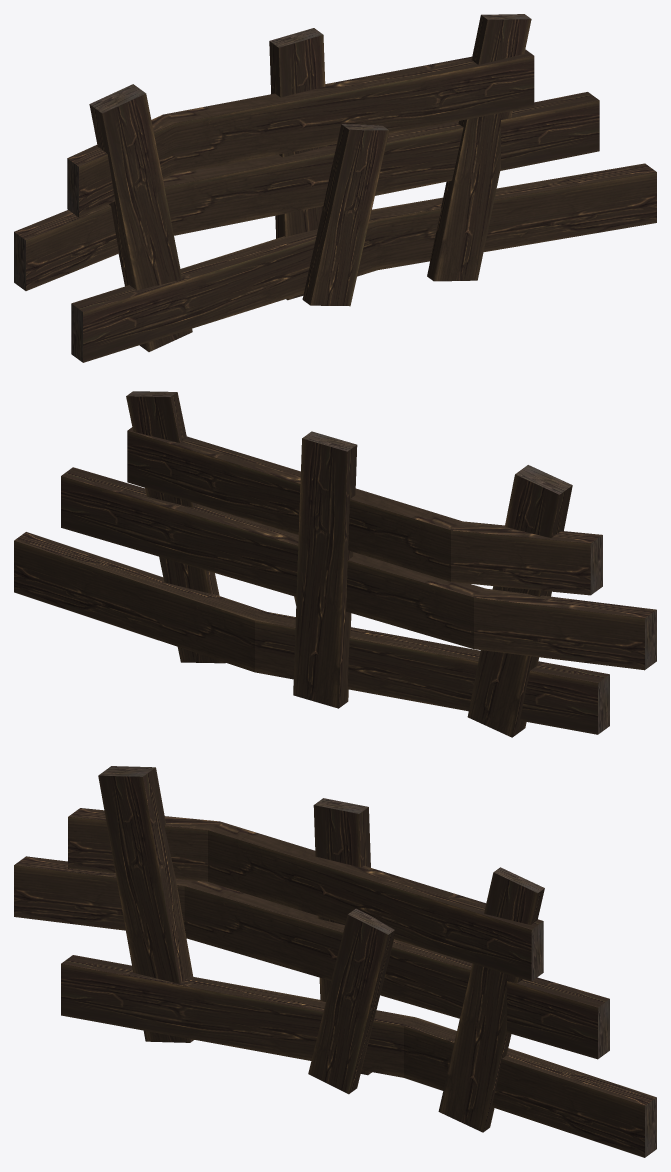
Rendered from A_mutou_006.fbx.
3 views of the same model, one above another, from view 1: azimuth 30°, elevation 25°; view 2: azimuth 150°, elevation 25°; view 3: azimuth 330°, elevation 25° (orthographic).
Visible parts, largest first — view 1: pasted__A_mutou_006; view 2: pasted__A_mutou_006; view 3: pasted__A_mutou_006.
Boxes of the visible parts, bbox=[...] form: pasted__A_mutou_006: bbox=[14, 14, 656, 362]; pasted__A_mutou_006: bbox=[14, 391, 656, 737]; pasted__A_mutou_006: bbox=[14, 766, 656, 1157].
Size of the model in its own units: 233 by 95.9 by 24.7.
